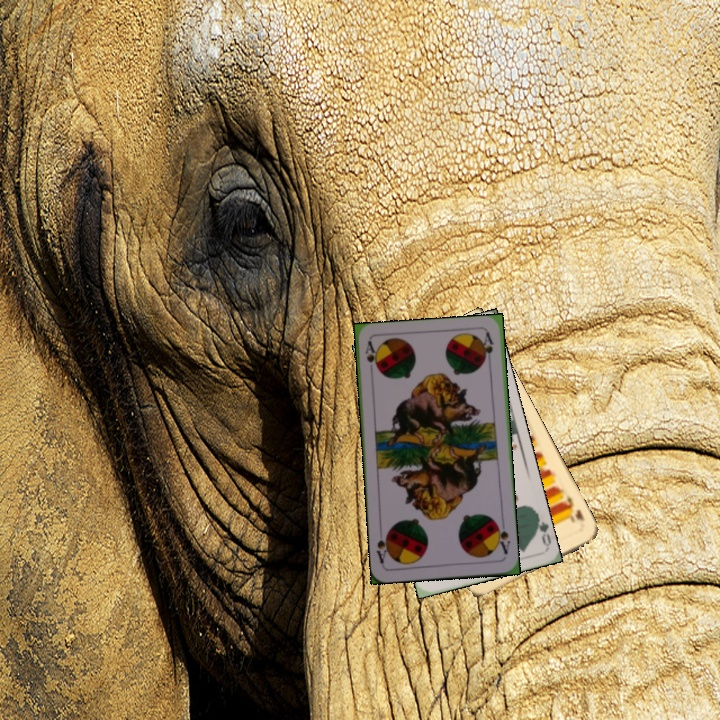E10: (558, 490, 587, 525)
GO: (530, 509, 553, 548)
SA: (492, 518, 513, 556), (361, 338, 380, 378)
